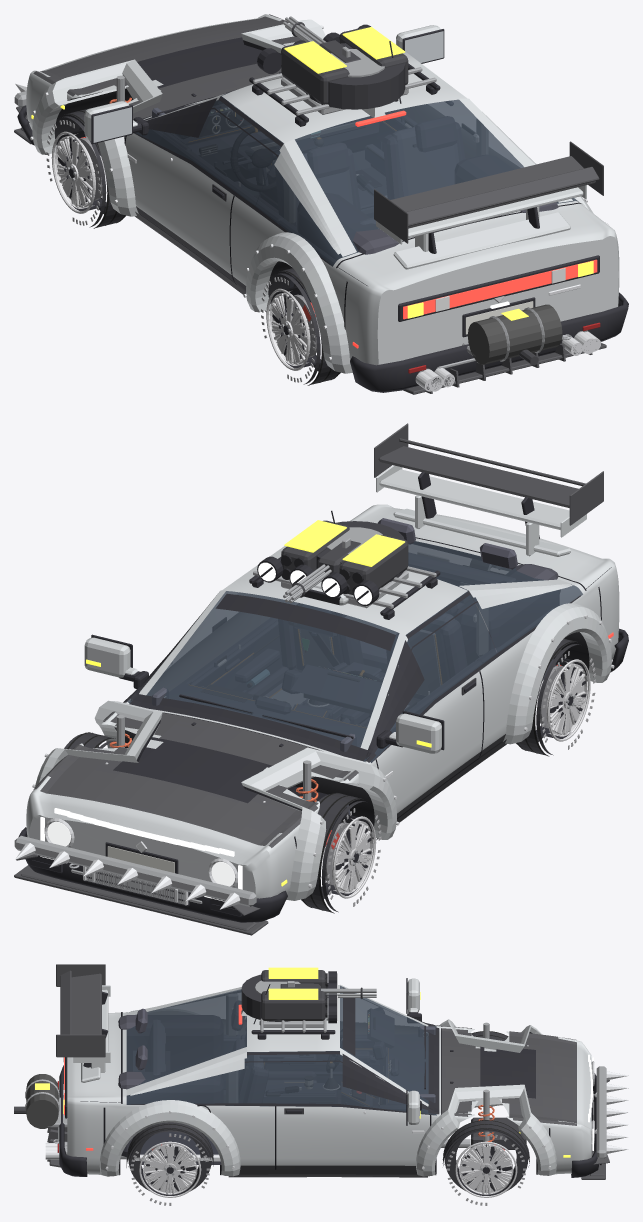
3 views of the same model, one above another, from view 1: azimuth 30°, elevation 25°; view 2: azimuth 150°, elevation 25°; view 3: azimuth 270°, elevation 25° (orthographic). The views are drawn at different scales.
Visible parts, largest first — view 1: BODY, PART_flares_widebody, PART_spoiler_gt, PART_hood_carbon, MESH_DRIVER_WINDOW, PART_roof_rack, PART_weapon_rockets, PART_weapon_oil, PART_hood_vent, PART_spoiler_lip, PART_spoiler_wing, WHEEL_FL (+10 smaller); view 2: BODY, PART_flares_widebody, PART_hood_carbon, PART_spoiler_gt, MESH_DRIVER_WINDOW, PART_weapon_rockets, PART_hood_vent, PART_spoiler_wing, PART_roof_rack, PART_weapon_spikes, WHEEL_FL, WHEEL_RL (+9 smaller); view 3: BODY, PART_flares_widebody, PART_hood_carbon, PART_spoiler_gt, PART_weapon_rockets, WHEEL_FR, PART_roof_rack, WHEEL_RR, PART_hood_vent, PART_weapon_oil, PART_weapon_spikes, PART_skirt_aero (+10 smaller).
Boxes of the visible parts, x1=… form: BODY: x1=17, y1=14, x2=628, y2=392; PART_flares_widebody: x1=30, y1=19, x2=593, y2=373; PART_spoiler_gt: x1=374, y1=141, x2=603, y2=253; PART_hood_carbon: x1=33, y1=14, x2=302, y2=119; MESH_DRIVER_WINDOW: x1=135, y1=96, x2=283, y2=205; PART_roof_rack: x1=249, y1=24, x2=440, y2=126; PART_weapon_rockets: x1=281, y1=27, x2=408, y2=114; PART_weapon_oil: x1=462, y1=304, x2=562, y2=365; PART_hood_vent: x1=137, y1=37, x2=262, y2=88; PART_spoiler_lip: x1=393, y1=212, x2=570, y2=269; PART_spoiler_wing: x1=376, y1=185, x2=586, y2=251; WHEEL_FL: x1=46, y1=108, x2=125, y2=228; BODY: x1=18, y1=504, x2=628, y2=922; PART_flares_widebody: x1=32, y1=603, x2=614, y2=900; PART_hood_carbon: x1=33, y1=711, x2=358, y2=847; PART_spoiler_gt: x1=374, y1=423, x2=603, y2=538; MESH_DRIVER_WINDOW: x1=368, y1=591, x2=496, y2=762; PART_weapon_rockets: x1=281, y1=520, x2=408, y2=608; PART_hood_vent: x1=113, y1=737, x2=272, y2=803; PART_spoiler_wing: x1=376, y1=465, x2=586, y2=556; PART_roof_rack: x1=249, y1=521, x2=440, y2=619; PART_weapon_spikes: x1=14, y1=835, x2=256, y2=909; WHEEL_FL: x1=301, y1=792, x2=381, y2=913; WHEEL_RL: x1=516, y1=638, x2=595, y2=756; BODY: x1=53, y1=978, x2=601, y2=1177; PART_flares_widebody: x1=99, y1=1009, x2=556, y2=1176; PART_hood_carbon: x1=441, y1=1026, x2=576, y2=1125; PART_spoiler_gt: x1=56, y1=964, x2=108, y2=1067; PART_weapon_rockets: x1=261, y1=967, x2=327, y2=1027; WHEEL_FR: x1=442, y1=1120, x2=529, y2=1205; PART_roof_rack: x1=241, y1=971, x2=337, y2=1039; WHEEL_RR: x1=126, y1=1122, x2=213, y2=1205; PART_hood_vent: x1=480, y1=1046, x2=535, y2=1098; PART_weapon_oil: x1=14, y1=1074, x2=67, y2=1128; PART_weapon_spikes: x1=596, y1=1066, x2=628, y2=1158; PART_skirt_aero: x1=228, y1=1169, x2=427, y2=1177.
Size of the model in its own units: 2.43 by 1.65 by 4.96.
